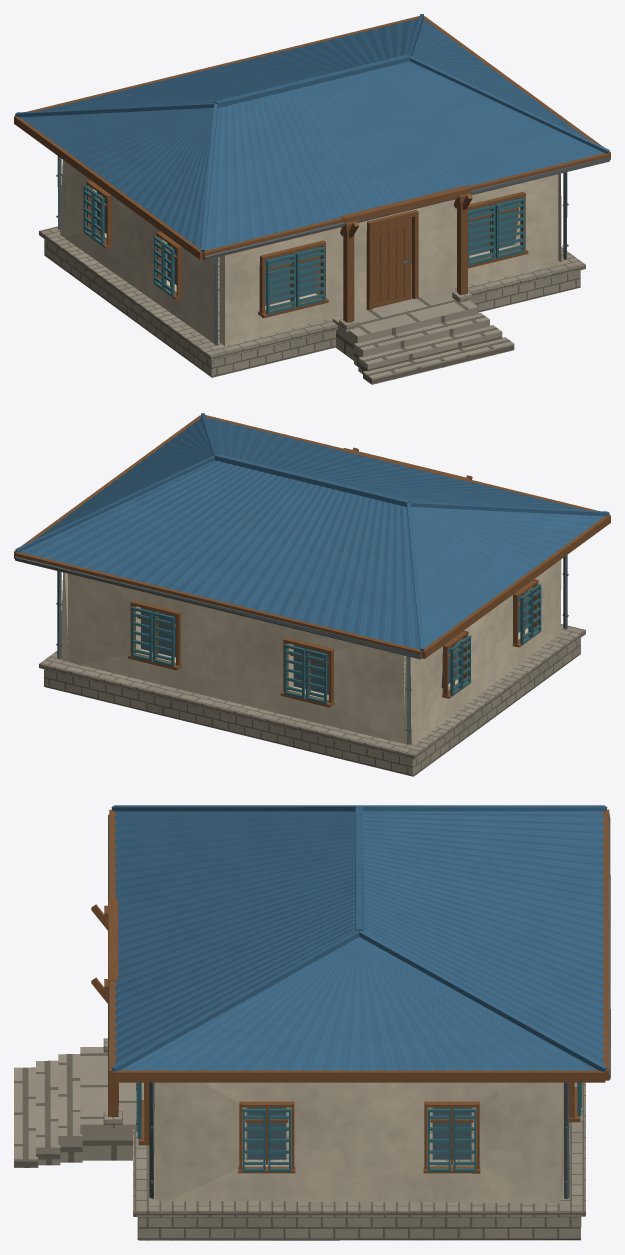
Rendered from Dhivehi_House_01_LOD2_v04.fbx.
The picture shows the model from 3 angles, top to bottom: view 1: azimuth 30°, elevation 25°; view 2: azimuth 150°, elevation 25°; view 3: azimuth 270°, elevation 25°; orthographic projection. The views are drawn at different scales.
Visible parts, largest first — view 1: House_01_LOD2_House_RoofBlue.001_MergedMesh, House_01_LOD2_House_Stucco.001_MergedMesh, House_01_LOD2_House_Limestone.001_MergedMesh, House_01_LOD2_House_Walnut.001_MergedMesh, House_01_LOD2_House_ShutterTeal.001_MergedMesh, House_01_LOD2_House_DarkHardware.001_MergedMesh, House_01_LOD2_House_SmokedGlass.001_MergedMesh; view 2: House_01_LOD2_House_RoofBlue.001_MergedMesh, House_01_LOD2_House_Stucco.001_MergedMesh, House_01_LOD2_House_Limestone.001_MergedMesh, House_01_LOD2_House_Walnut.001_MergedMesh, House_01_LOD2_House_ShutterTeal.001_MergedMesh, House_01_LOD2_House_DarkHardware.001_MergedMesh, House_01_LOD2_House_SmokedGlass.001_MergedMesh; view 3: House_01_LOD2_House_RoofBlue.001_MergedMesh, House_01_LOD2_House_Stucco.001_MergedMesh, House_01_LOD2_House_Limestone.001_MergedMesh, House_01_LOD2_House_Walnut.001_MergedMesh, House_01_LOD2_House_ShutterTeal.001_MergedMesh, House_01_LOD2_House_SmokedGlass.001_MergedMesh, House_01_LOD2_House_DarkHardware.001_MergedMesh.
Boxes of the visible parts, x1,y1,x2,y2 form: House_01_LOD2_House_RoofBlue.001_MergedMesh: [15, 14, 609, 251]; House_01_LOD2_House_Stucco.001_MergedMesh: [60, 160, 561, 346]; House_01_LOD2_House_Limestone.001_MergedMesh: [39, 226, 585, 384]; House_01_LOD2_House_Walnut.001_MergedMesh: [14, 16, 610, 322]; House_01_LOD2_House_ShutterTeal.001_MergedMesh: [83, 185, 525, 314]; House_01_LOD2_House_DarkHardware.001_MergedMesh: [56, 156, 609, 344]; House_01_LOD2_House_SmokedGlass.001_MergedMesh: [97, 191, 515, 305]; House_01_LOD2_House_RoofBlue.001_MergedMesh: [15, 413, 609, 650]; House_01_LOD2_House_Stucco.001_MergedMesh: [60, 559, 561, 745]; House_01_LOD2_House_Limestone.001_MergedMesh: [39, 624, 585, 776]; House_01_LOD2_House_Walnut.001_MergedMesh: [14, 415, 610, 707]; House_01_LOD2_House_ShutterTeal.001_MergedMesh: [131, 584, 541, 703]; House_01_LOD2_House_DarkHardware.001_MergedMesh: [15, 555, 568, 743]; House_01_LOD2_House_SmokedGlass.001_MergedMesh: [141, 590, 527, 694]; House_01_LOD2_House_RoofBlue.001_MergedMesh: [111, 805, 607, 1071]; House_01_LOD2_House_Stucco.001_MergedMesh: [153, 1082, 563, 1203]; House_01_LOD2_House_Limestone.001_MergedMesh: [14, 1038, 585, 1240]; House_01_LOD2_House_Walnut.001_MergedMesh: [91, 809, 609, 1173]; House_01_LOD2_House_ShutterTeal.001_MergedMesh: [136, 1082, 581, 1171]; House_01_LOD2_House_SmokedGlass.001_MergedMesh: [247, 1107, 471, 1159]; House_01_LOD2_House_DarkHardware.001_MergedMesh: [108, 813, 610, 1198].
Size of the model in its own units: 10.49 by 4.71 by 10.
7 materials, 5 textured.
